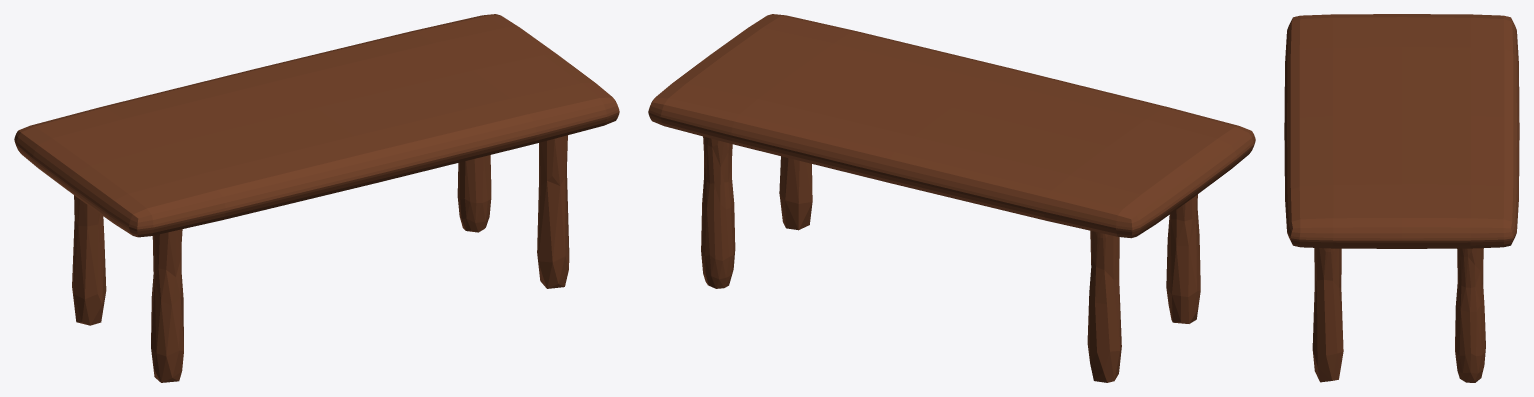
The model's file is Mesa.001.fbx.
The picture shows the model from 3 angles, left to right: view 1: azimuth 30°, elevation 25°; view 2: azimuth 150°, elevation 25°; view 3: azimuth 270°, elevation 25°; orthographic projection. The views are drawn at different scales.
Parts seen in each view (by area): view 1: Mesa.001; view 2: Mesa.001; view 3: Mesa.001.
Part boxes in pixels (bbox=[...]): Mesa.001: bbox=[14, 14, 619, 382]; Mesa.001: bbox=[648, 14, 1255, 382]; Mesa.001: bbox=[1284, 14, 1519, 382].
Size of the model in its own units: 290 by 110 by 132.
